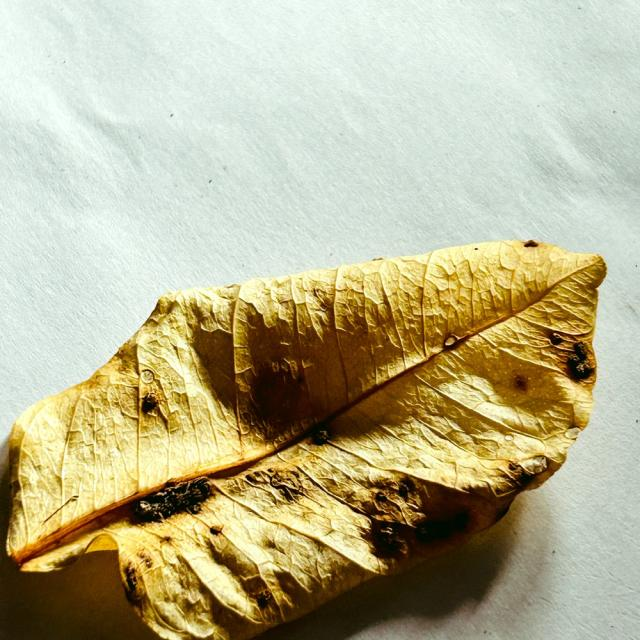DryLeaf_Lemon: (8, 241, 605, 639)
